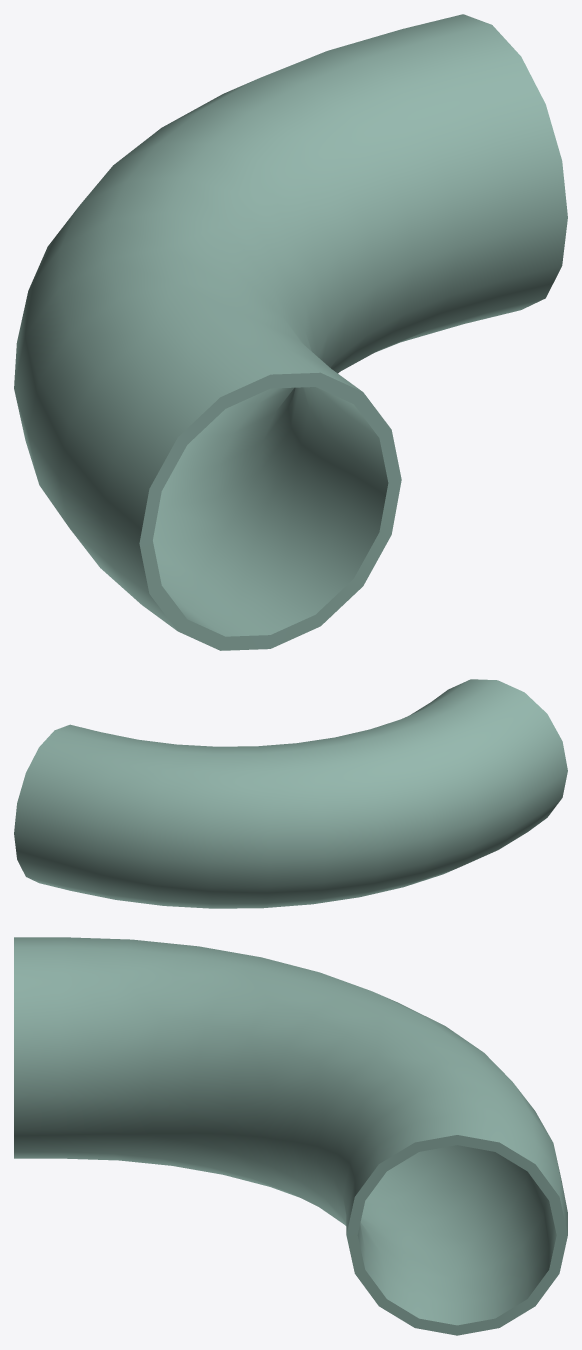
File: PipeLarge_Hollow_Bent_02.fbx
3 views of the same model, one above another, from view 1: azimuth 30°, elevation 25°; view 2: azimuth 150°, elevation 25°; view 3: azimuth 270°, elevation 25° (orthographic). The views are drawn at different scales.
Visible parts, largest first — view 1: PipeLarge_Hollow_Bent_02.001; view 2: PipeLarge_Hollow_Bent_02.001; view 3: PipeLarge_Hollow_Bent_02.001.
Boxes of the visible parts, bbox=[...] form: PipeLarge_Hollow_Bent_02.001: bbox=[14, 14, 567, 650]; PipeLarge_Hollow_Bent_02.001: bbox=[14, 679, 567, 908]; PipeLarge_Hollow_Bent_02.001: bbox=[14, 937, 567, 1335].
Size of the model in its own units: 0.5 by 0.2 by 0.5.
